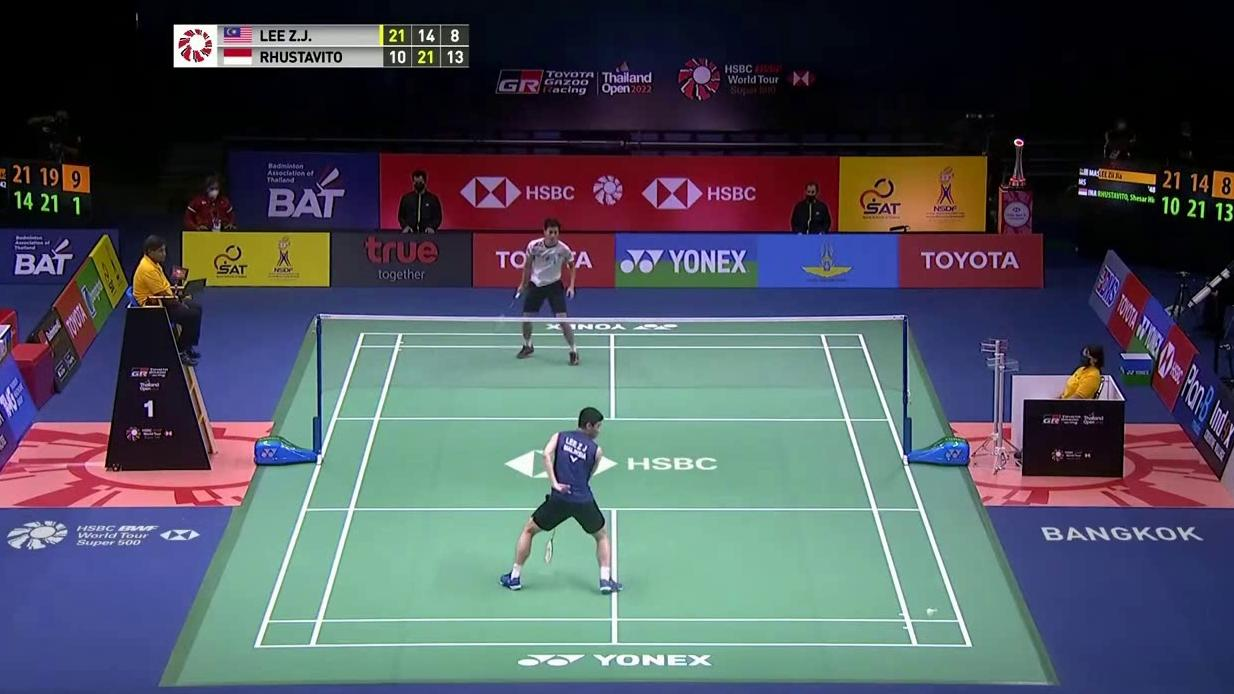racket: (495, 292, 520, 329), (543, 526, 559, 563)
shuttle: (925, 607, 939, 618)
